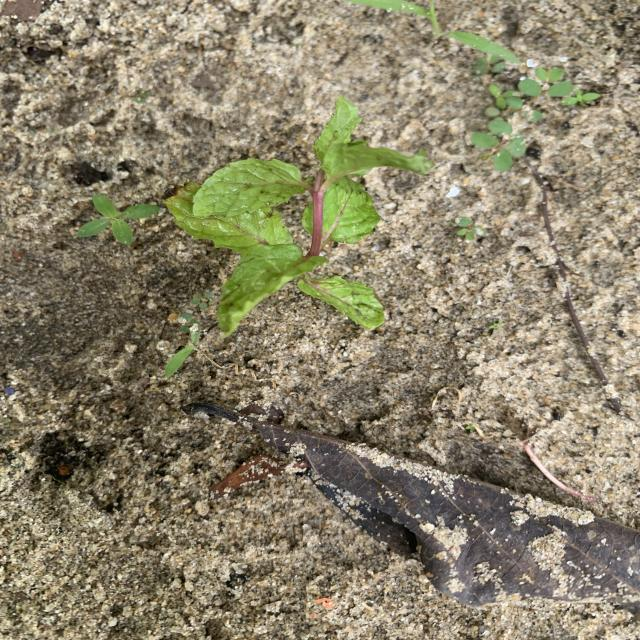crop: (170, 100, 427, 334)
weed: (349, 0, 520, 63), (487, 67, 573, 120), (78, 194, 157, 244), (470, 118, 525, 171), (165, 335, 198, 375), (456, 216, 484, 239), (560, 90, 600, 106), (475, 55, 505, 75), (175, 312, 199, 335), (191, 291, 211, 307), (489, 322, 503, 329)
